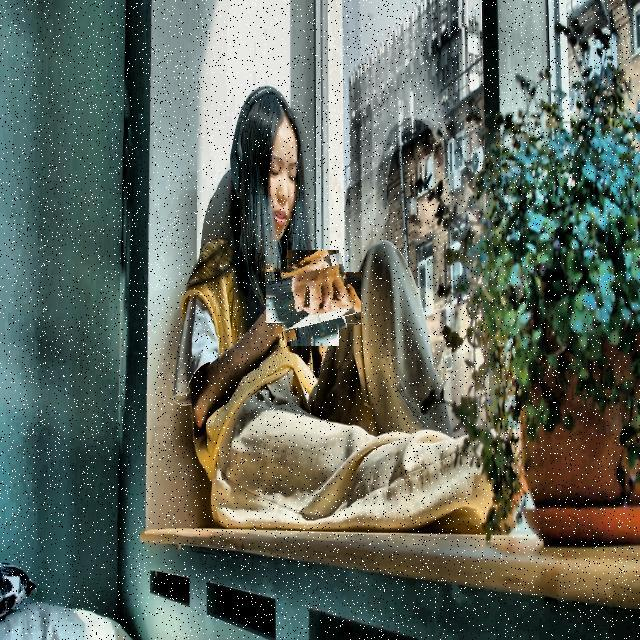Phone: (272, 258, 354, 338)
